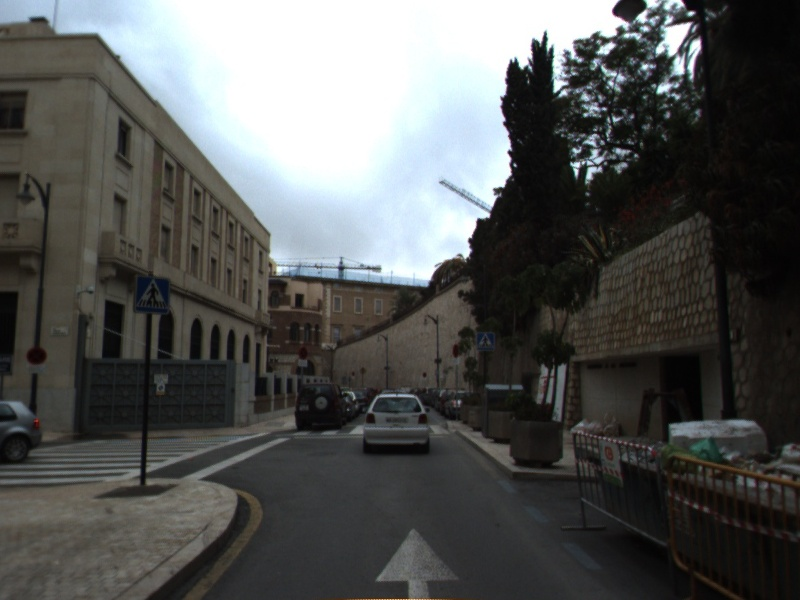STRAIGHT: (373, 526, 462, 600)
